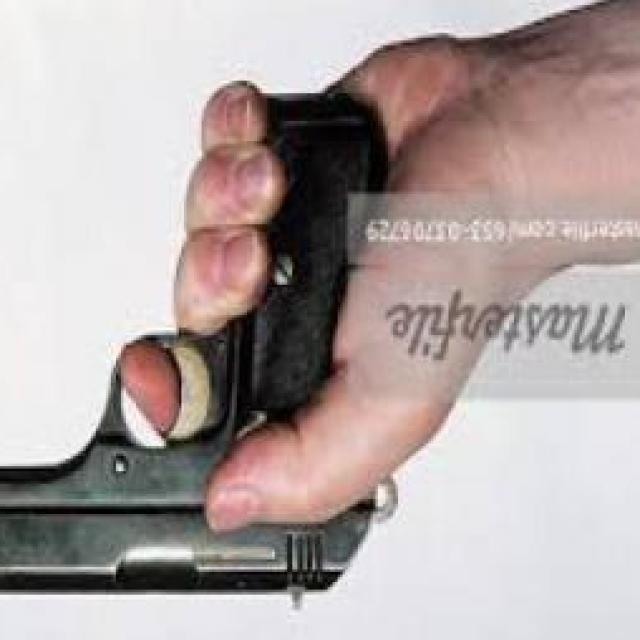pistol: (0, 86, 388, 617)
